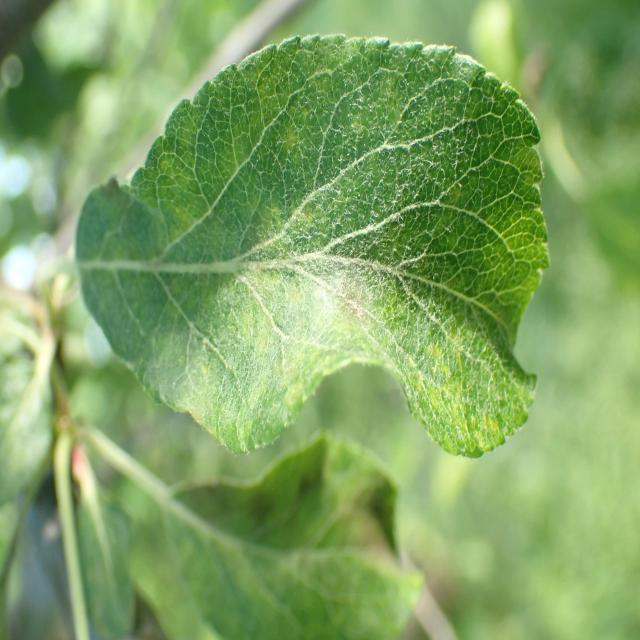scab: (85, 159, 503, 448)
